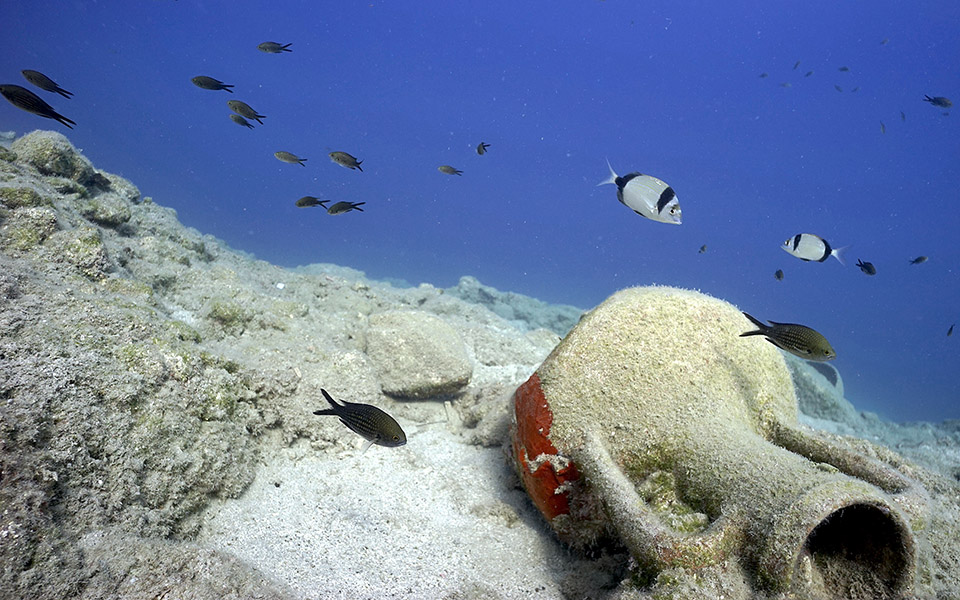amphora: (497, 274, 920, 600)
